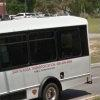Bus: (3, 15, 93, 98)
